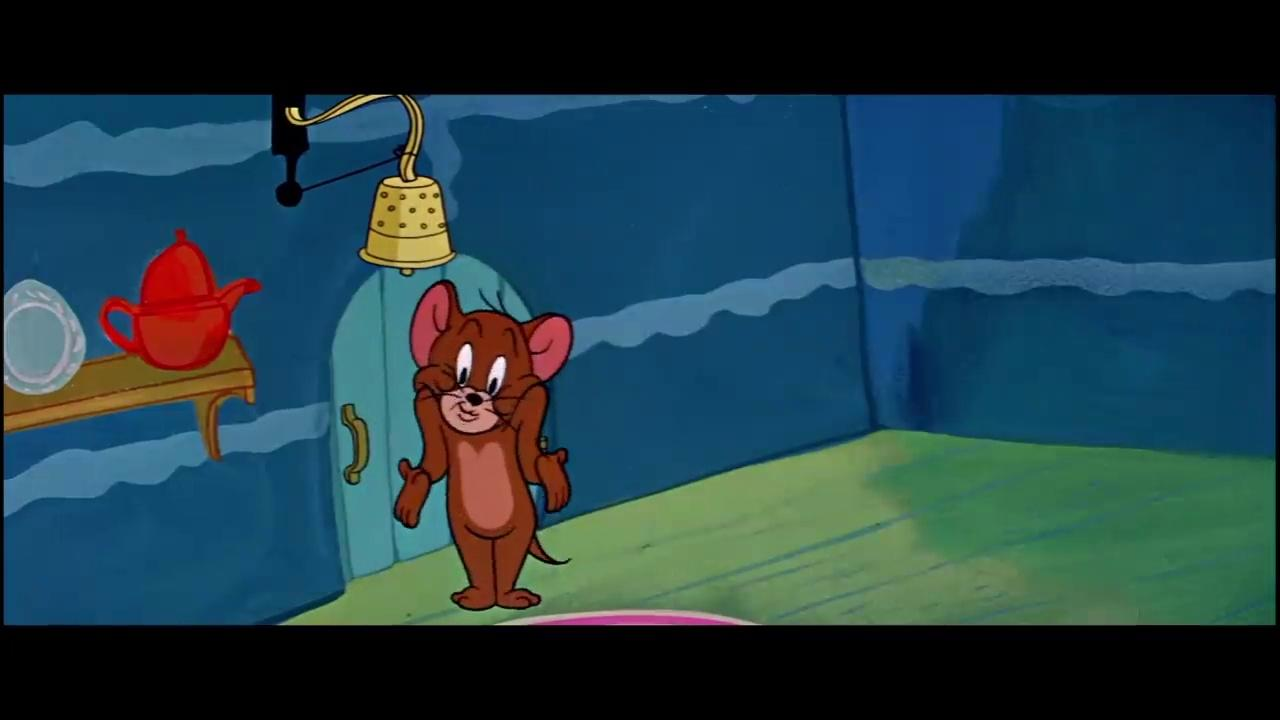Jerry: (392, 277, 576, 611)
